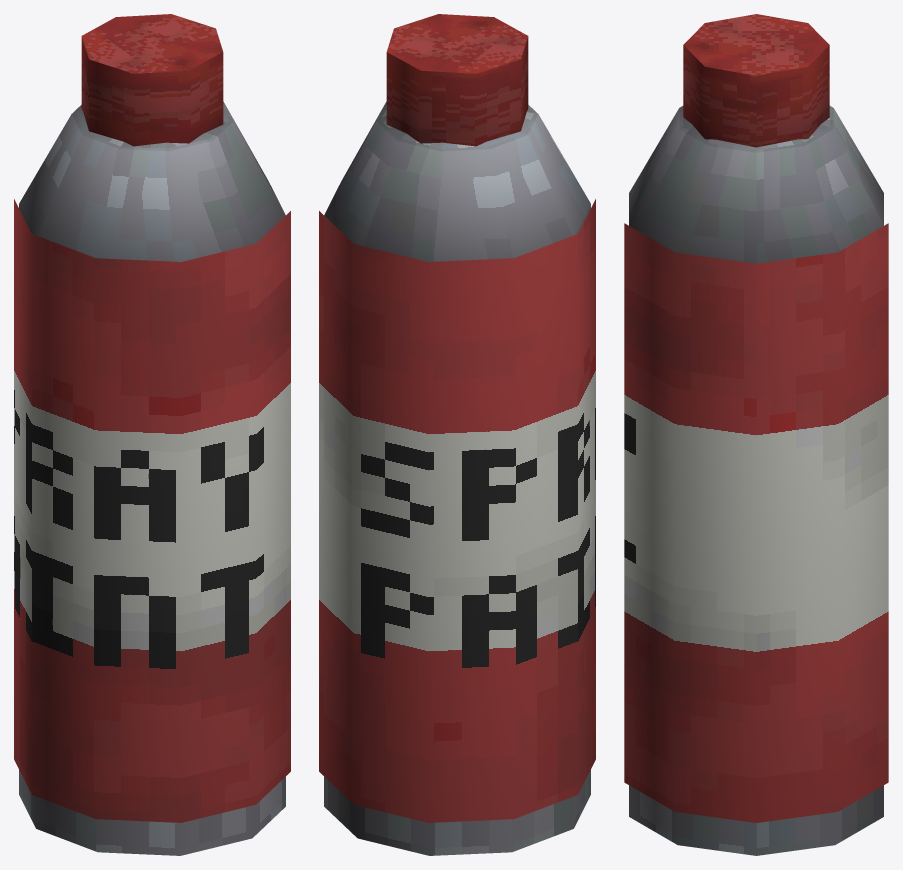
The model's file is spray_paint.glb.
3 views of the same model, side by side, from view 1: azimuth 30°, elevation 25°; view 2: azimuth 150°, elevation 25°; view 3: azimuth 270°, elevation 25° (orthographic).
Visible parts, largest first — view 1: spray_paint; view 2: spray_paint; view 3: spray_paint.
Boxes of the visible parts, box(x1,y1,x2,y2) form: spray_paint: box(14, 14, 290, 855); spray_paint: box(319, 14, 595, 855); spray_paint: box(624, 14, 888, 855).
Bounding box in the file's own units: 0.0684 × 0.205 × 0.0651.
1 material, 1 textured.
